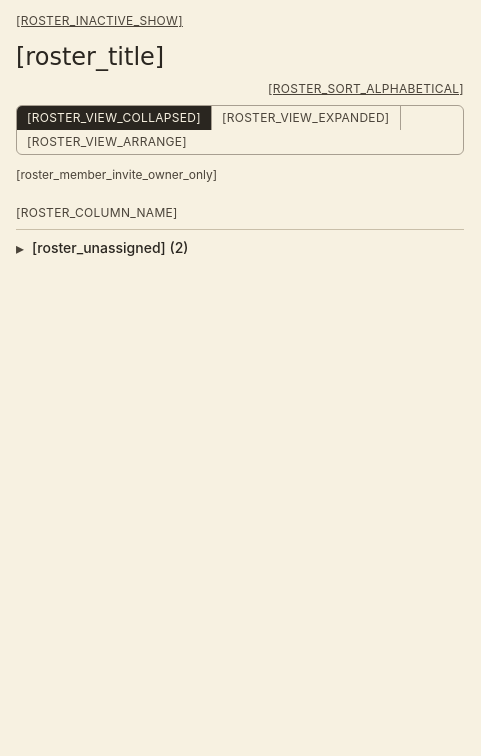
it: (A) deactivate — admin-only, never self (done-when 7) › the viewer's OWN row never carries a deactivate control — self-deactivation is impossible at the UI
This screenshot has width=481, height=756.
What coordinates should you click on to do the following:
click the button with test id "section-toggle-unassigned"
I would click on:
 (110, 248)
Its box is [16,230,464,266].
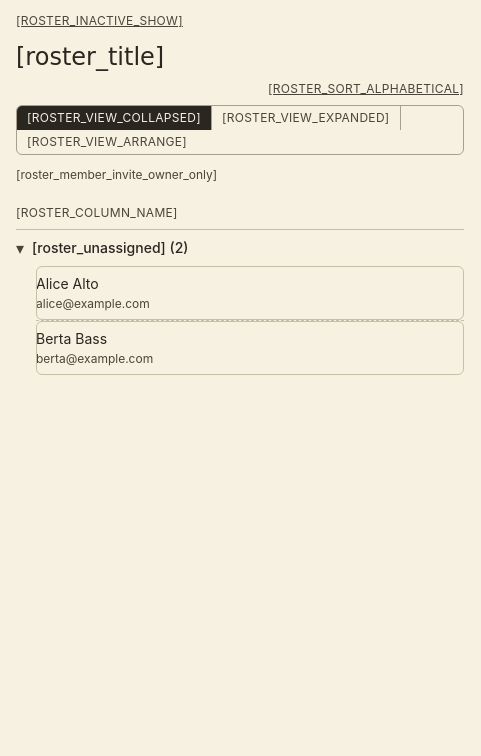
Expected: the list item with test id "roster-row-m2" is shown, [36,321,464,375]
What coordinates should you click on to do the following:
click the button without text next to "alice@example.com"
I would click on:
 (250, 293)
Its box is [36,266,464,320].
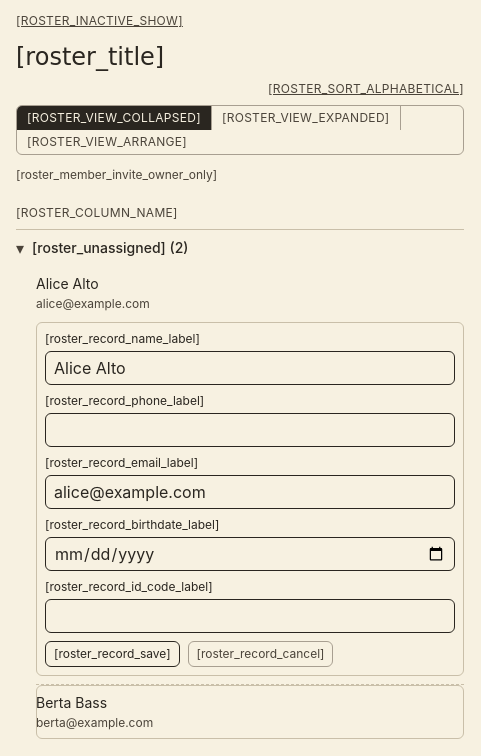
Expected: the field with test id "roster-record-name" is shown, [45,351,455,385]
